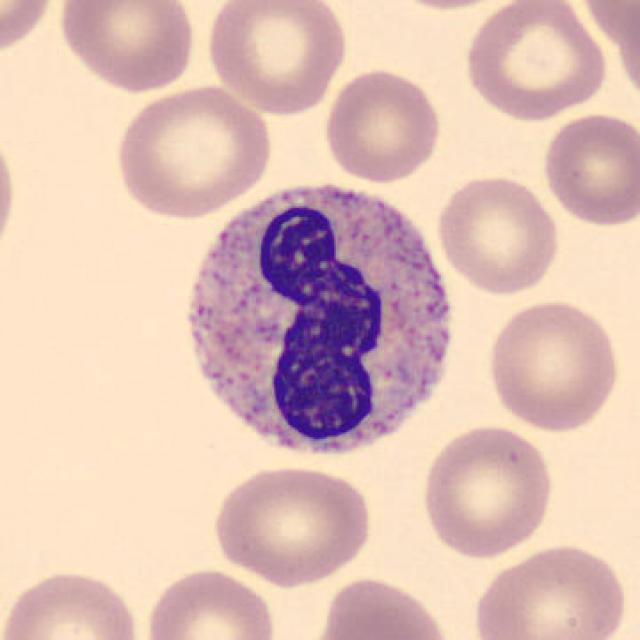Neutrophil: (167, 166, 466, 481)
RBC: (110, 81, 276, 222), (208, 460, 377, 589), (418, 420, 558, 560), (484, 294, 624, 434), (460, 0, 609, 123), (202, 0, 352, 116), (467, 539, 631, 640), (432, 171, 562, 296), (320, 65, 444, 185), (55, 0, 199, 95), (539, 108, 638, 229), (0, 564, 148, 640), (140, 564, 281, 640), (311, 573, 455, 640), (574, 0, 640, 62), (608, 0, 640, 113), (0, 0, 59, 60), (0, 120, 21, 270), (373, 0, 519, 14)
